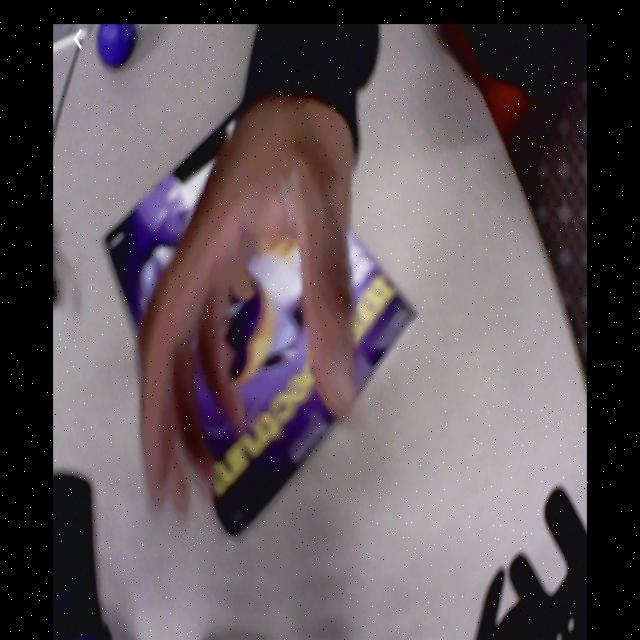ball: (96, 25, 138, 67)
